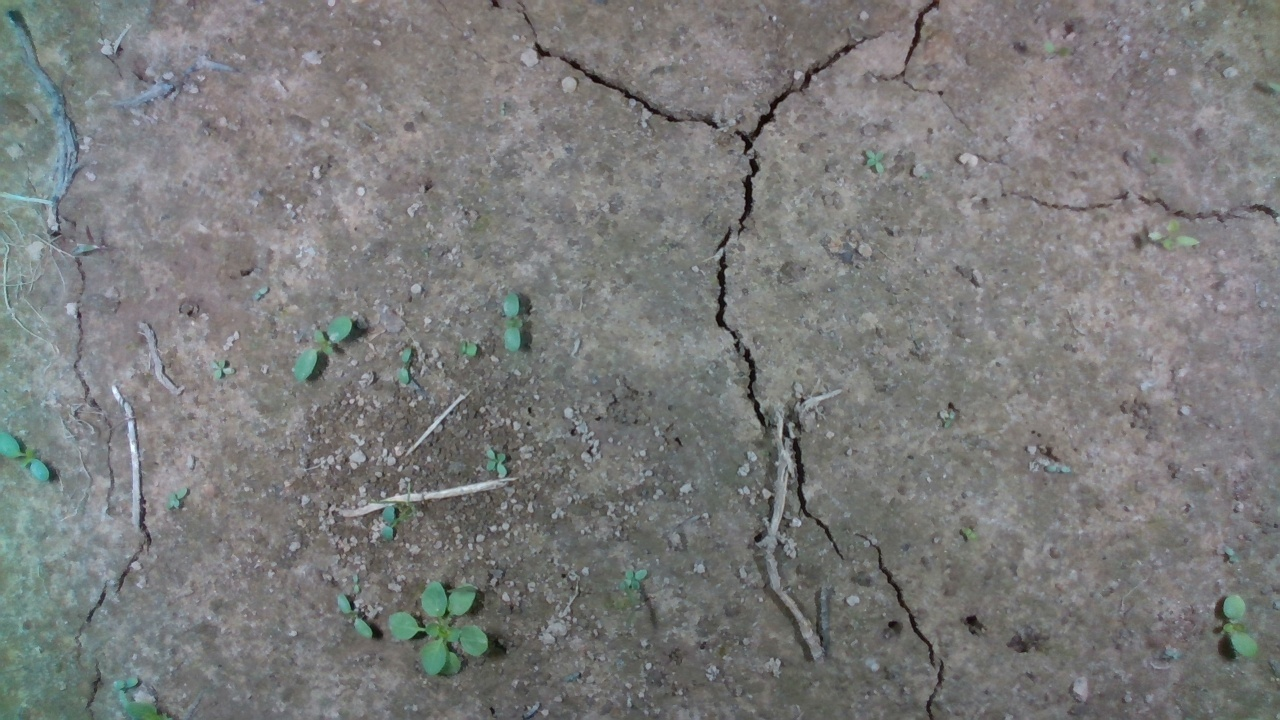weed: (290, 313, 354, 381), (1218, 591, 1261, 663), (1147, 214, 1197, 259), (333, 591, 376, 642), (493, 291, 525, 354), (205, 360, 239, 388), (861, 148, 891, 177), (395, 347, 413, 391), (485, 445, 505, 484), (245, 280, 276, 303), (623, 567, 649, 594), (451, 338, 479, 363), (162, 485, 190, 509)
